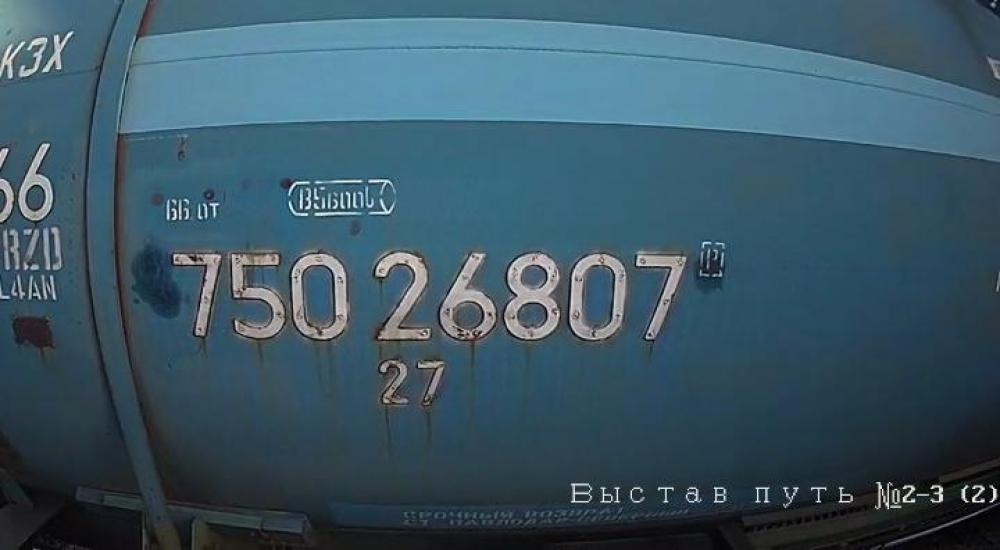Wagon-number: (169, 247, 693, 346)
